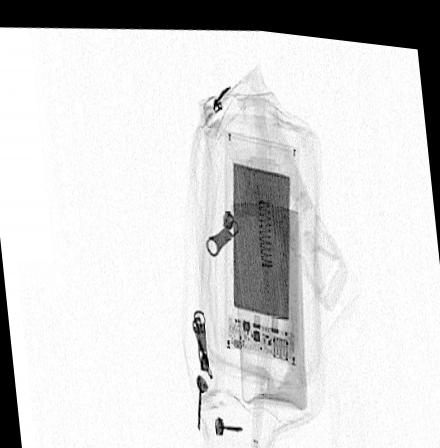Powerbank: (224, 122, 299, 358)
